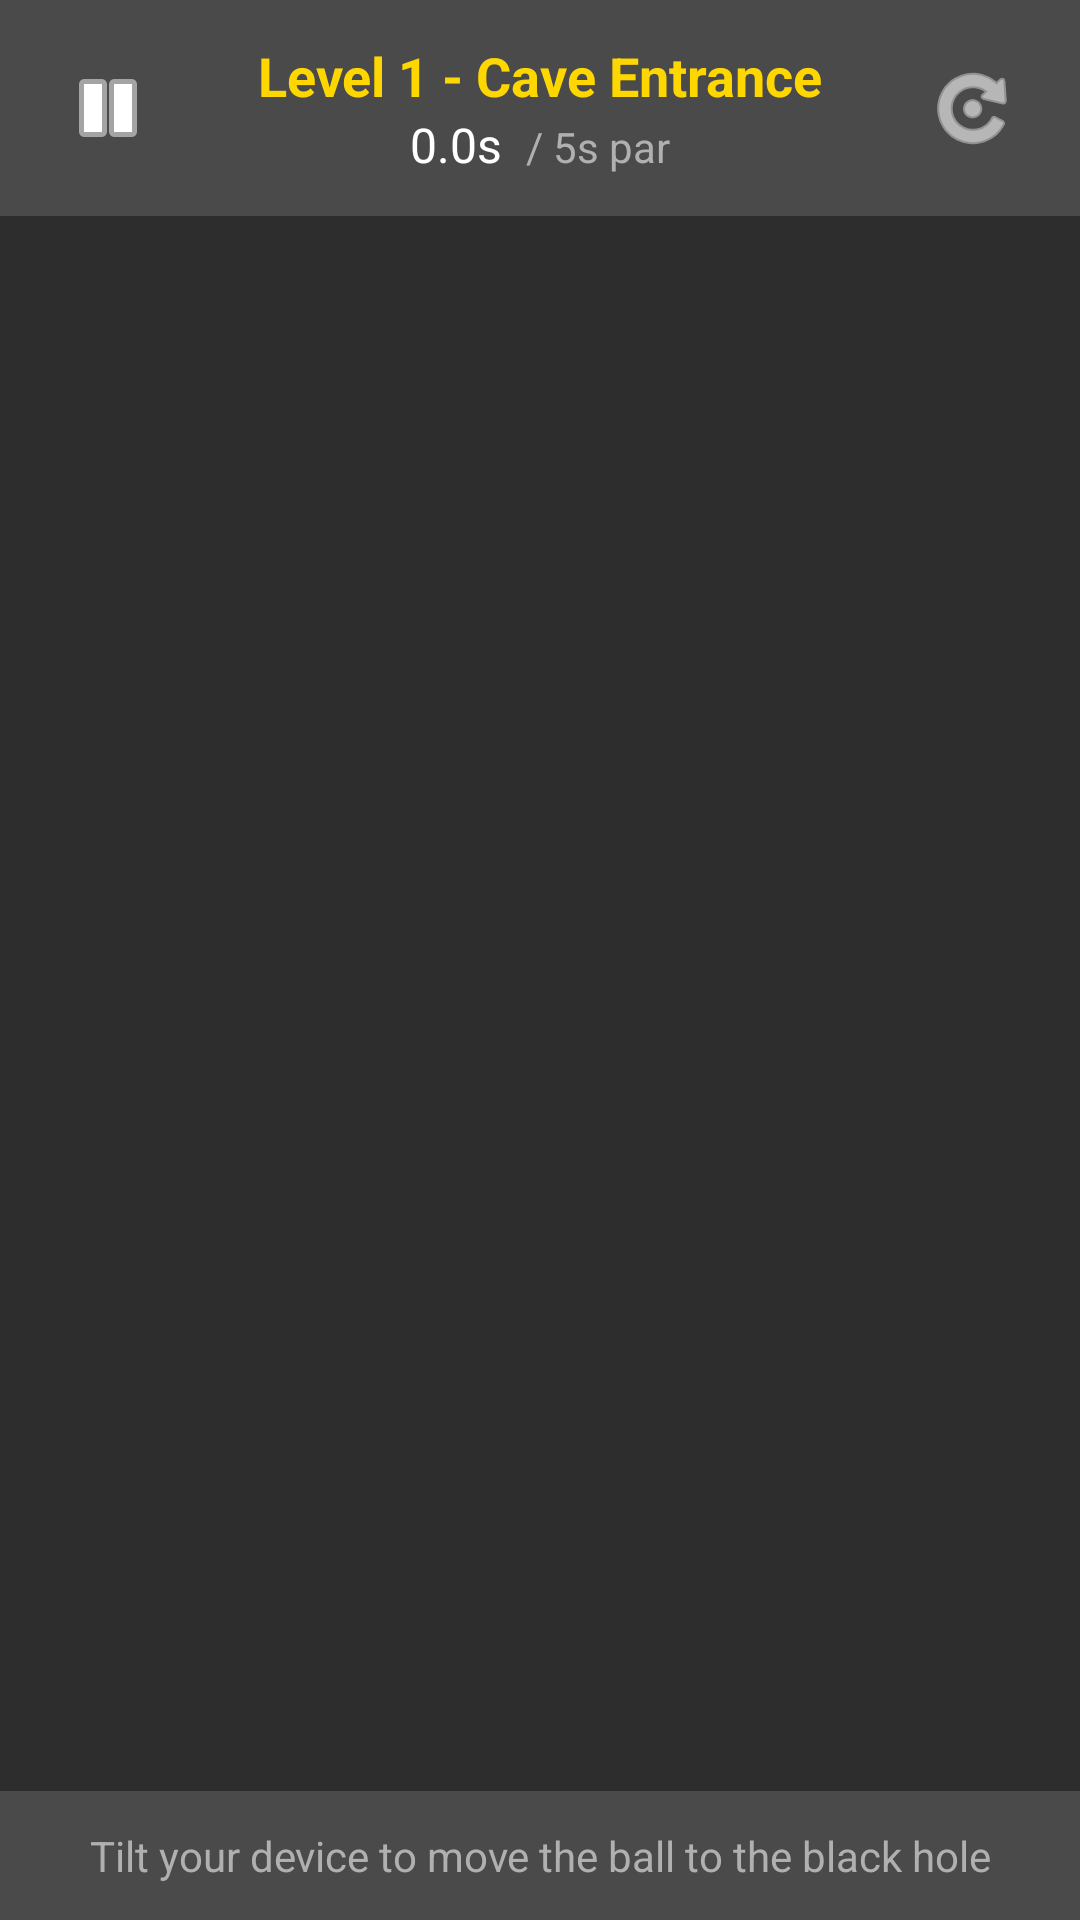

Where to tap for icons on this 1080x1920 app screen, as [x,y]:
Pause: [108,108]
Restart: [972,108]
